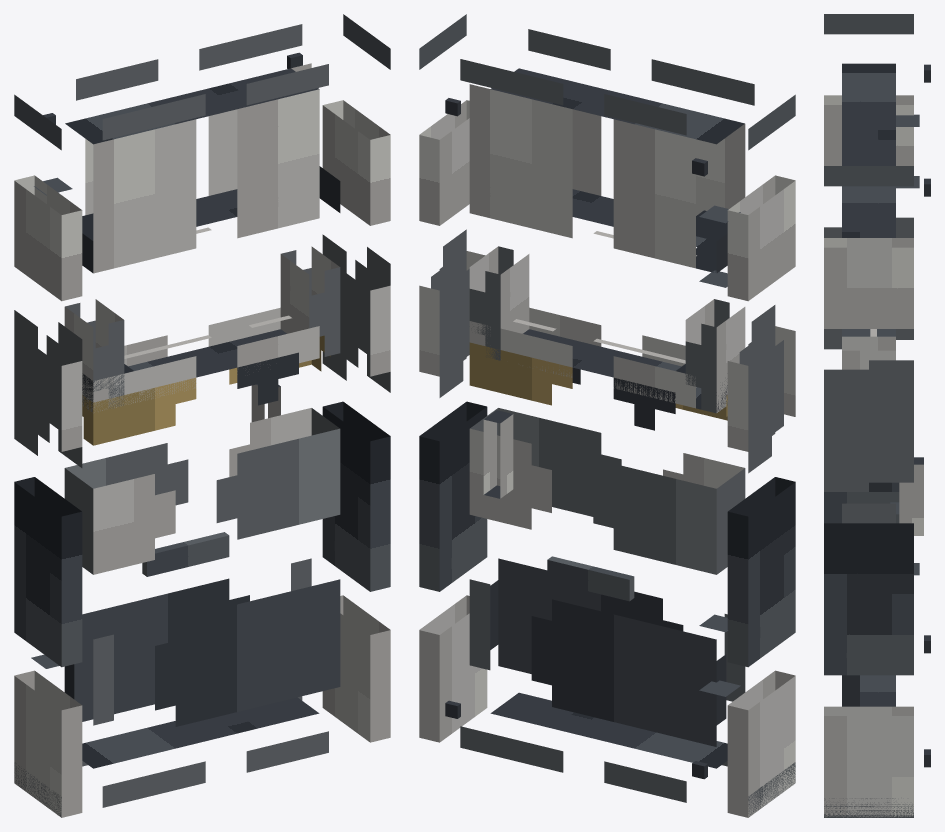
Rendered from lab_door.obj.
3 views of the same model, side by side, from view 1: azimuth 30°, elevation 25°; view 2: azimuth 150°, elevation 25°; view 3: azimuth 270°, elevation 25° (orthographic). The views are drawn at different scales.
Size of the model in its own units: 0.4375 by 0.875 by 0.1299.
